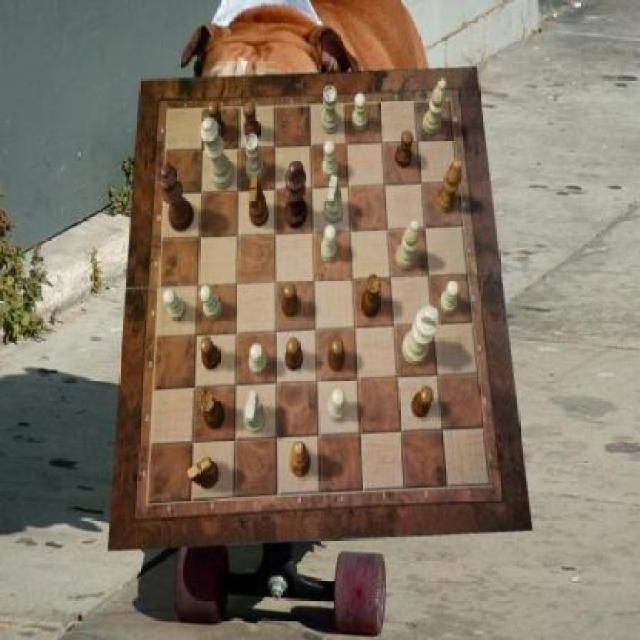bishop: (437, 158, 463, 212), (290, 442, 312, 478)
black-bishop: (284, 160, 308, 229)
black-king: (188, 457, 220, 489), (249, 177, 269, 228)
black-knight: (198, 338, 221, 371), (411, 386, 433, 419), (244, 103, 262, 142), (208, 102, 225, 142), (395, 131, 413, 168), (282, 283, 300, 317), (285, 337, 302, 371), (328, 337, 345, 371)
black-pawn: (157, 165, 194, 232)
black-queen: (198, 391, 226, 429), (362, 274, 382, 318)
black-rook: (423, 79, 447, 136), (395, 218, 420, 271)
white-bishop: (402, 306, 439, 366)
white-king: (323, 176, 343, 224), (245, 391, 267, 433)
white-knight: (200, 285, 223, 319), (163, 291, 187, 323), (440, 280, 460, 315), (320, 226, 337, 262), (323, 142, 339, 180), (352, 94, 368, 132), (328, 389, 345, 423), (250, 343, 268, 374)
white-pawn: (200, 118, 235, 191)
white-queen: (246, 134, 266, 180), (322, 86, 339, 136)
